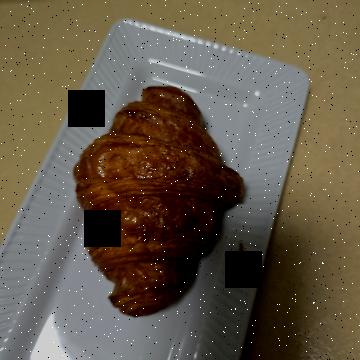croissant: (72, 120, 329, 310)
